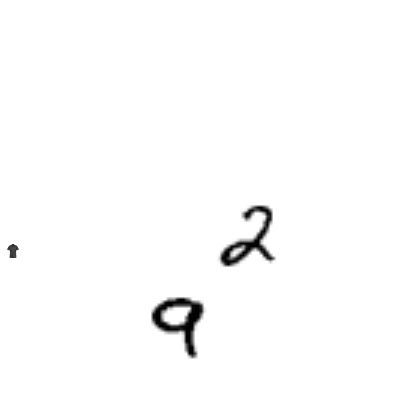2: (206, 197, 290, 281)
9: (137, 277, 221, 361)
Shirt: (6, 244, 20, 258)
